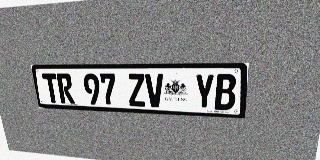7: (99, 73, 118, 106)
9: (83, 73, 102, 105)
B: (214, 74, 237, 110)
R: (56, 73, 75, 104)
T: (42, 73, 60, 103)
V: (145, 74, 164, 107)
Y: (194, 74, 215, 110)
Z: (127, 74, 146, 107)
